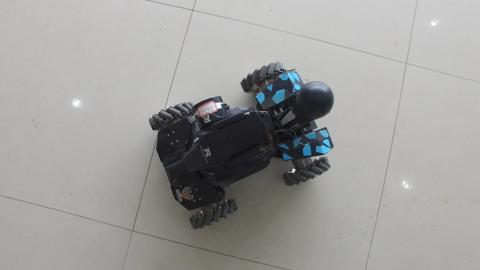chariot: (141, 53, 347, 234)
